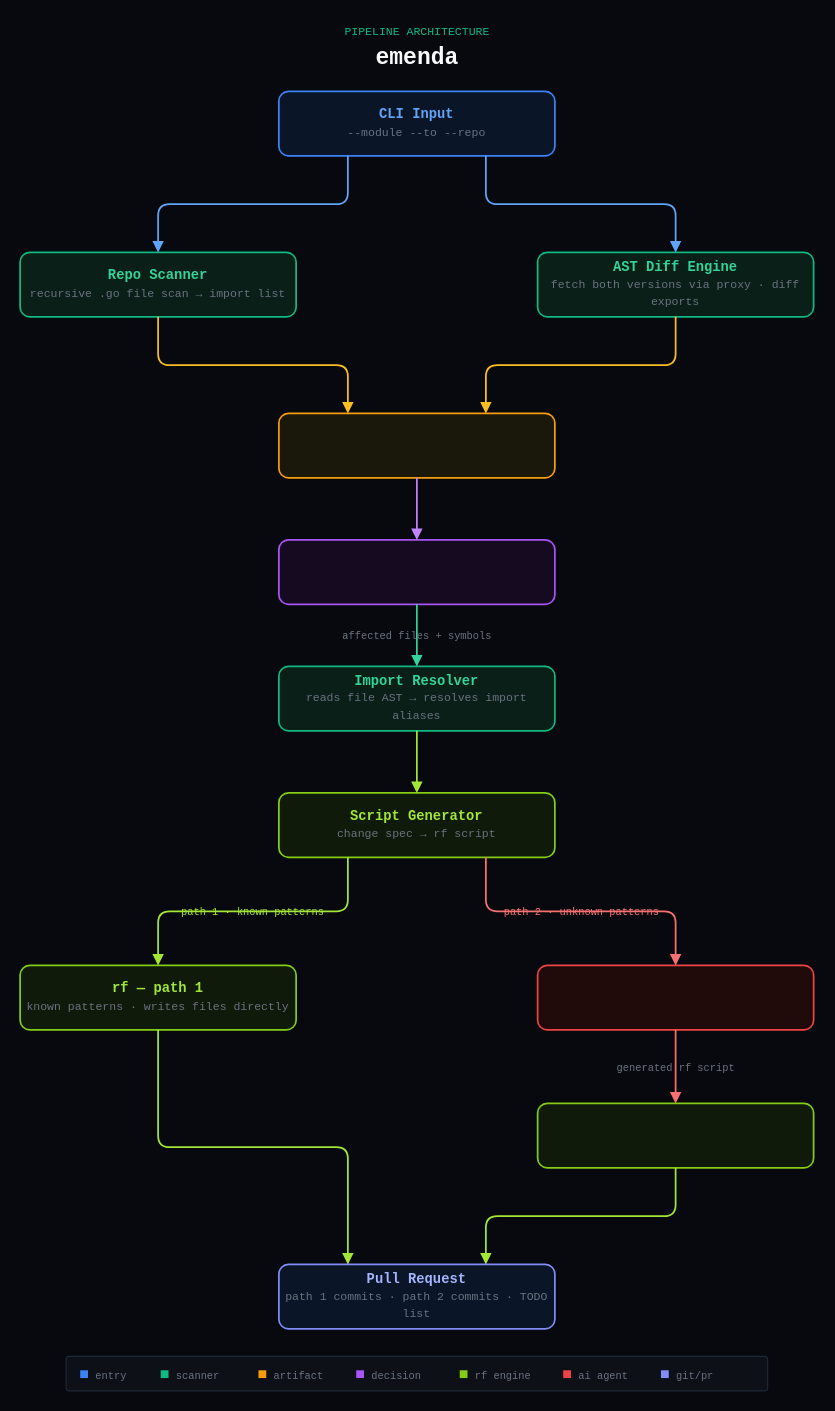
The diagram is 835 pixels wide and 1411 high, and some of its shapes have lost their labels. The shapes that lost their labels are listed below. From the top down, each one's box as (x1, y1, x2, y2) in pixels, then its label:
(277, 412, 555, 478): Change Spec JSON: renames · removed · signature changes
(277, 539, 555, 605): Impact Intersection files x change spec = what breaks where
(536, 964, 814, 1030): AI Agent unknown patterns · generates rf script
(536, 1102, 814, 1168): rf — path 2 AI-generated script · writes files directly
